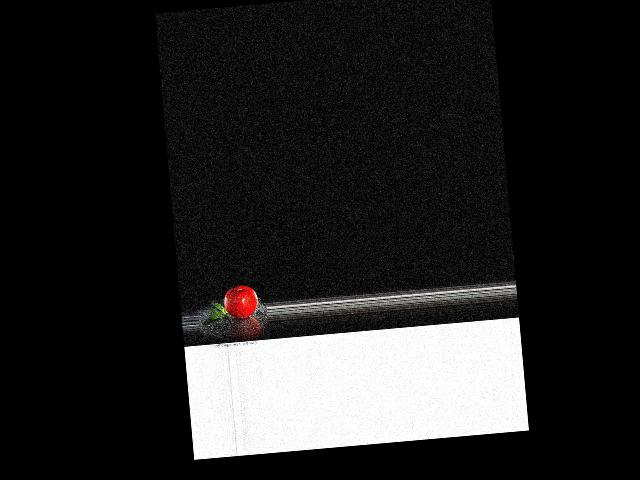tomato: (222, 284, 259, 319)
